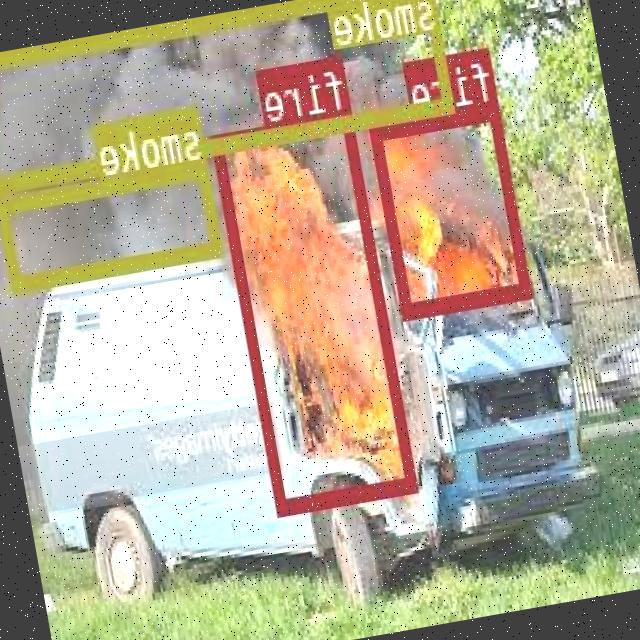fire: (212, 110, 418, 514), (371, 98, 533, 316)
smoke: (0, 0, 456, 191), (0, 158, 225, 288)
